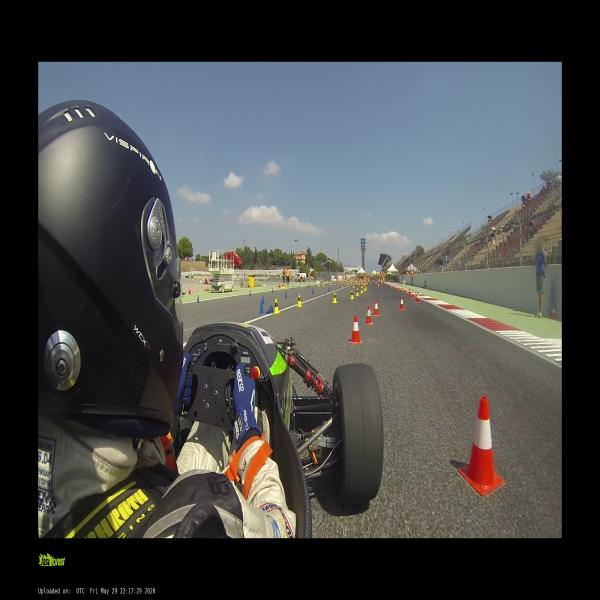blue_cone: (265, 305, 274, 314), (259, 302, 263, 314), (261, 295, 265, 305), (196, 295, 200, 303), (284, 290, 288, 298), (311, 288, 314, 294), (249, 290, 251, 297), (328, 286, 330, 292), (272, 288, 274, 293)
orange_cone: (458, 396, 504, 495), (349, 316, 361, 343), (364, 305, 373, 324), (372, 299, 379, 316), (398, 297, 404, 310), (551, 305, 556, 320), (416, 293, 420, 303), (411, 291, 415, 298), (409, 289, 412, 295), (189, 290, 193, 294), (404, 288, 407, 293), (400, 286, 403, 291), (279, 284, 282, 288), (390, 284, 392, 289), (398, 285, 400, 290), (277, 283, 279, 288), (378, 283, 379, 288)
yellow_cone: (273, 298, 280, 314), (296, 294, 302, 306), (332, 292, 337, 303), (350, 290, 354, 299), (356, 288, 359, 296), (361, 288, 364, 293), (318, 282, 320, 287), (364, 286, 366, 291), (282, 284, 284, 288), (361, 284, 363, 288), (322, 282, 324, 286)
